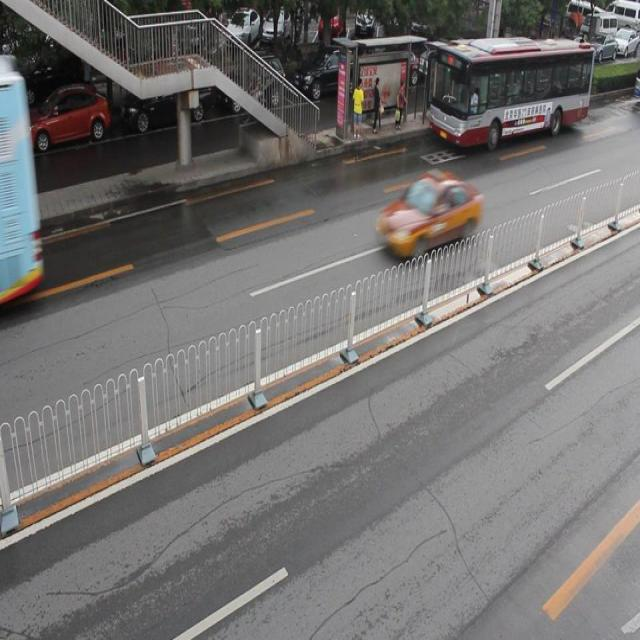car: (376, 168, 478, 262), (18, 82, 108, 148), (118, 72, 210, 127), (220, 49, 285, 112), (292, 42, 361, 100)
van: (429, 40, 591, 146)
